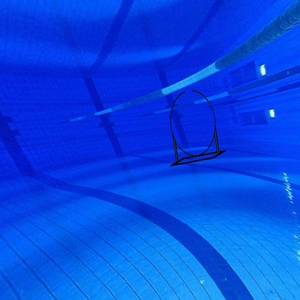circle: (169, 89, 227, 168)
